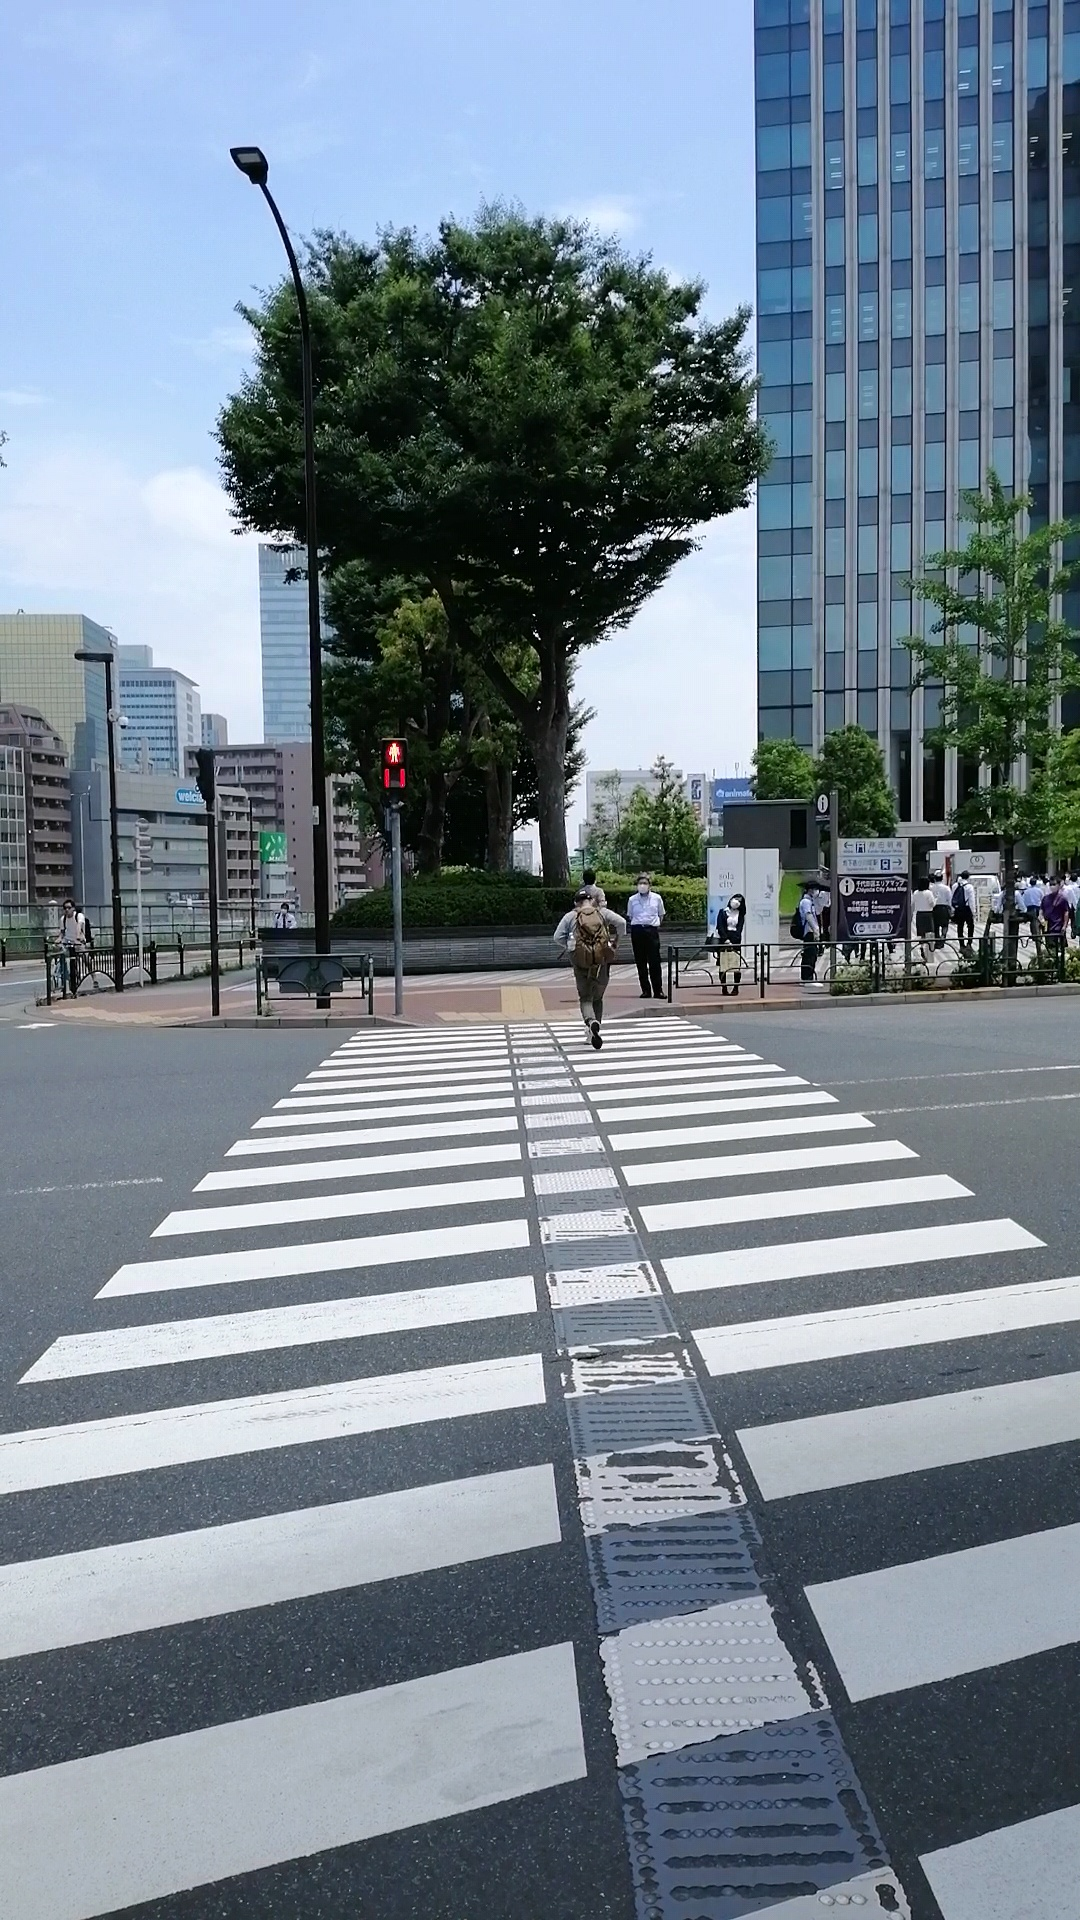red: (380, 737, 409, 793)
